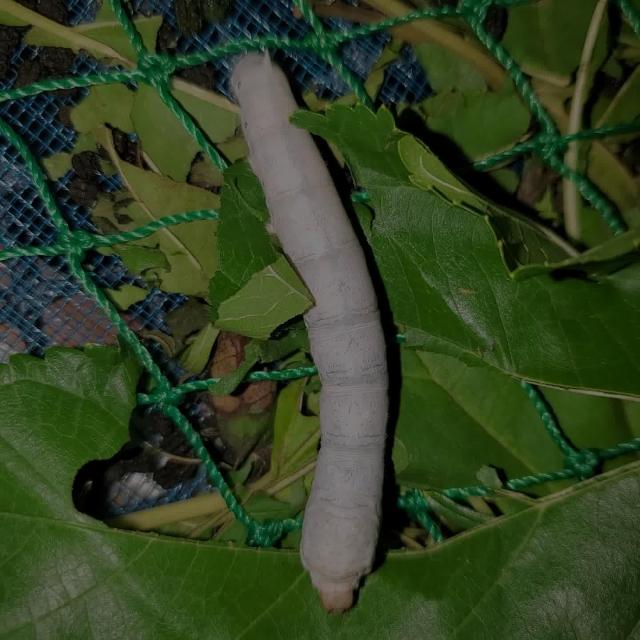Healthy: (214, 41, 413, 616)
